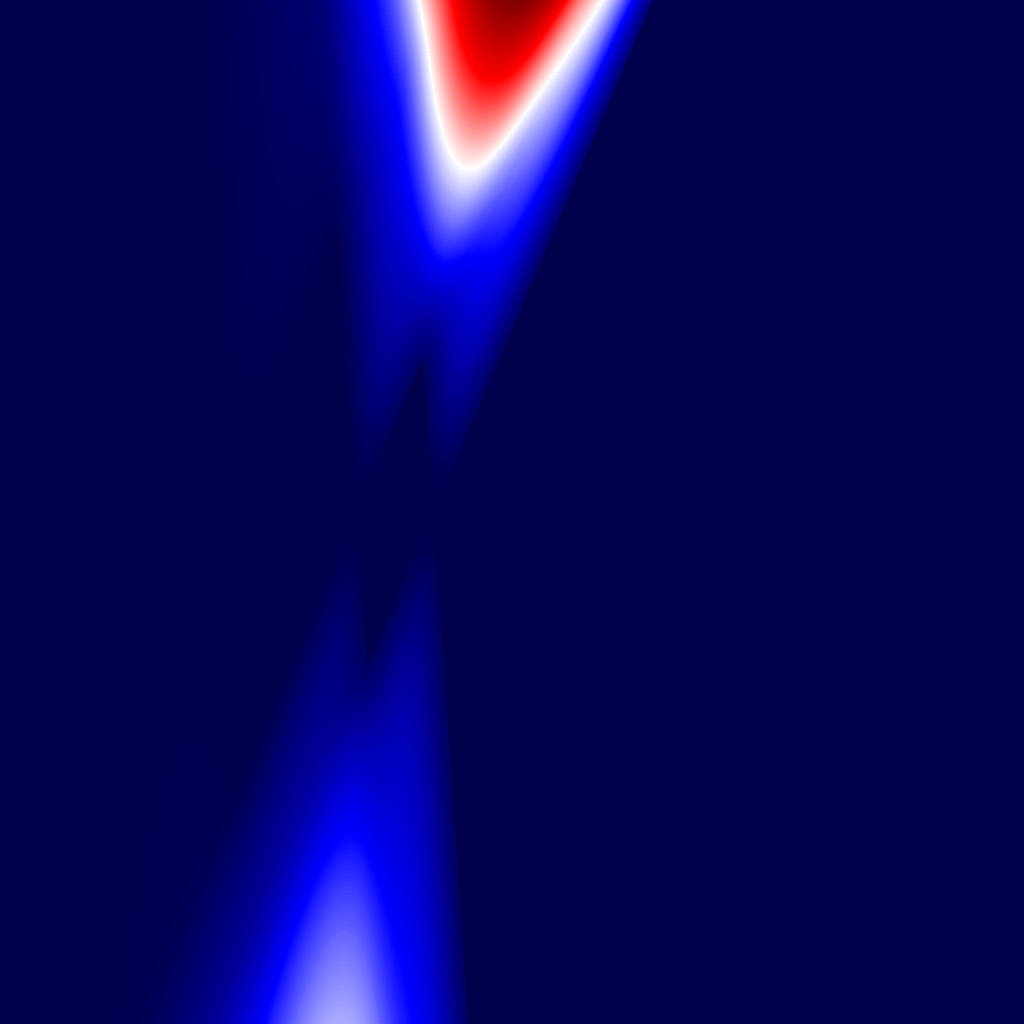diamond: (221, 230, 360, 794), (361, 357, 437, 667)
